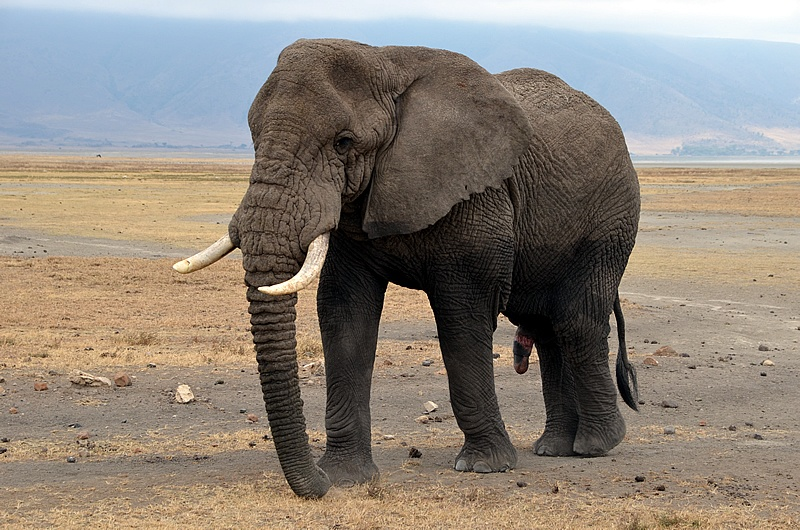elephant: (173, 40, 642, 497)
